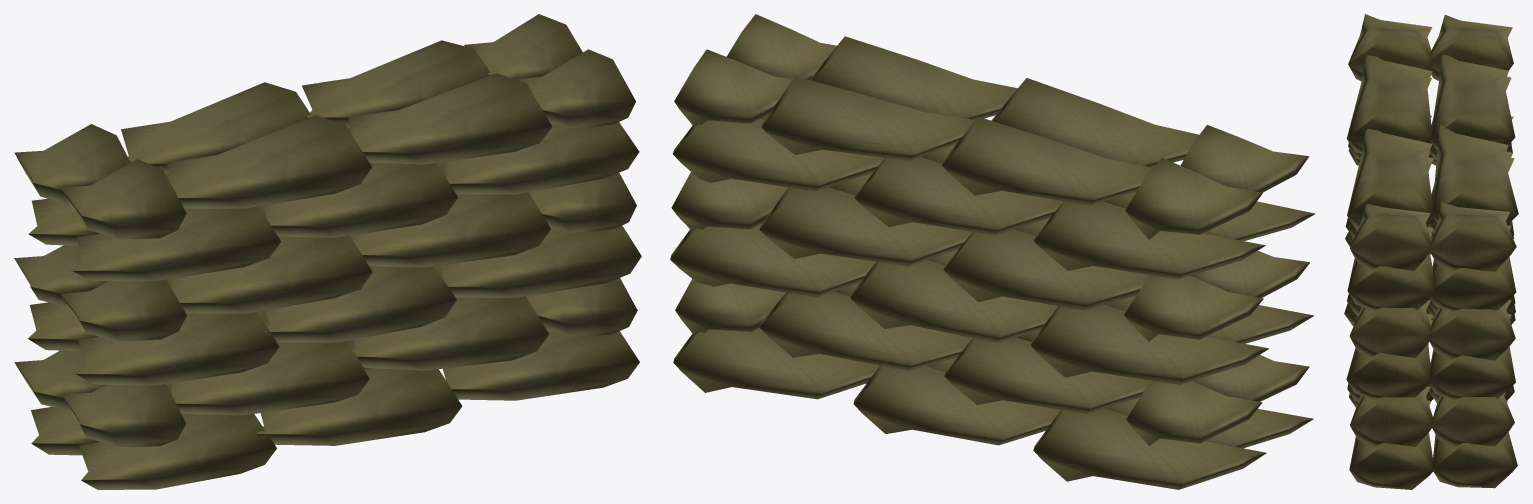
File: sandbag_wall.glb
3 renders of one model, left to right at view 1: azimuth 30°, elevation 25°; view 2: azimuth 150°, elevation 25°; view 3: azimuth 270°, elevation 25°, orthographic. The views are drawn at different scales.
Visible parts, largest first — view 1: sandbag_wall; view 2: sandbag_wall; view 3: sandbag_wall.
Boxes of the visible parts, left/top/right/bottom form: sandbag_wall: left=14, top=14, right=641, bottom=489; sandbag_wall: left=670, top=14, right=1315, bottom=489; sandbag_wall: left=1344, top=14, right=1518, bottom=489.
Size of the model in its own units: 2.07 by 1.16 by 0.6636.
Materials: 1 (1 with a texture image).
